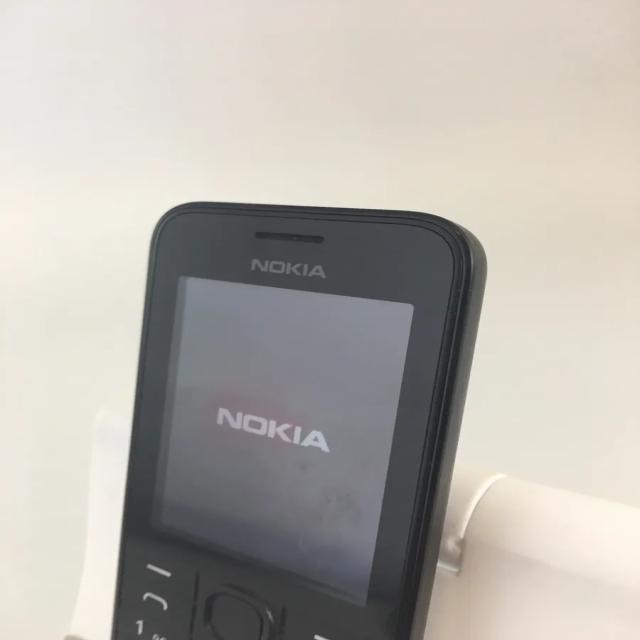mobile phone: (108, 199, 488, 639)
